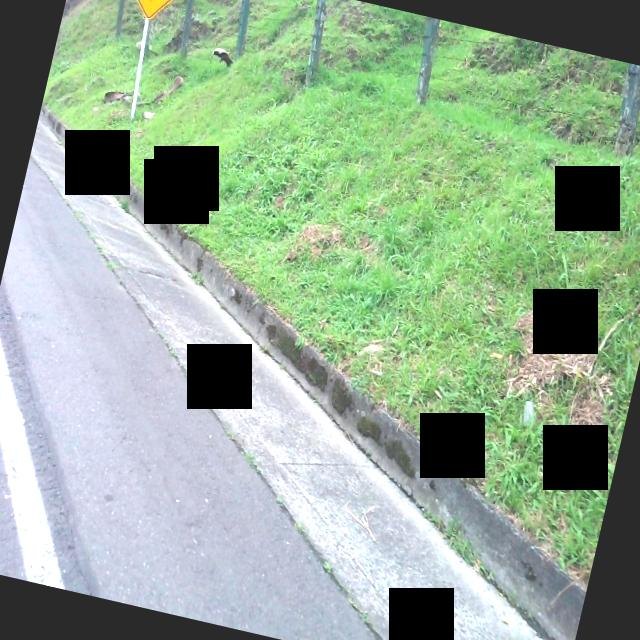DITCH: (0, 61, 640, 640), (0, 104, 640, 640)
